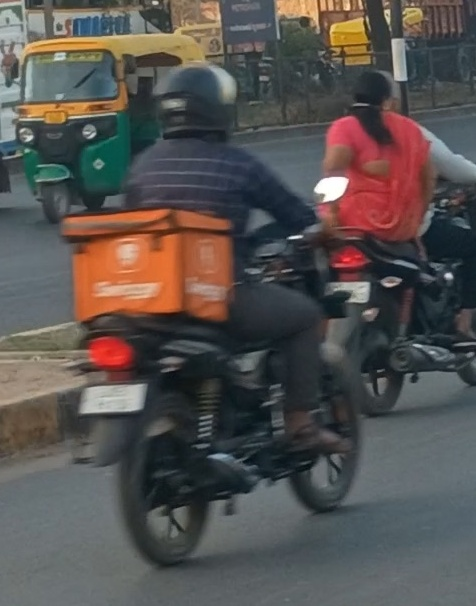BikeWithRider: (50, 56, 381, 574), (303, 61, 475, 422)
Helmet: (146, 57, 245, 148)
NoHelmet: (340, 63, 405, 124)
